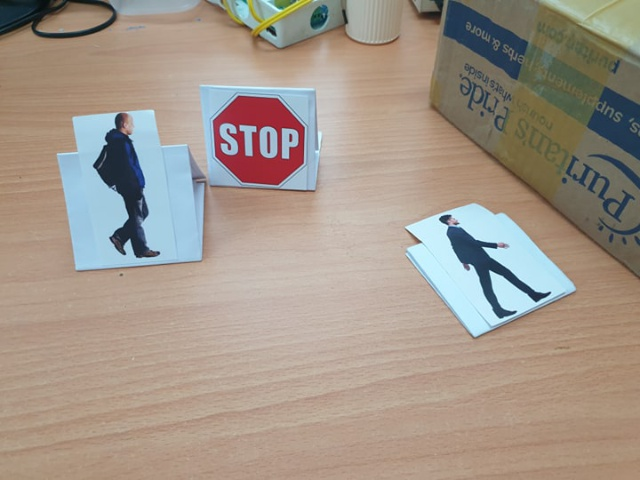Person: (419, 215, 560, 310), (91, 114, 165, 258)
Stop: (204, 90, 307, 190)
